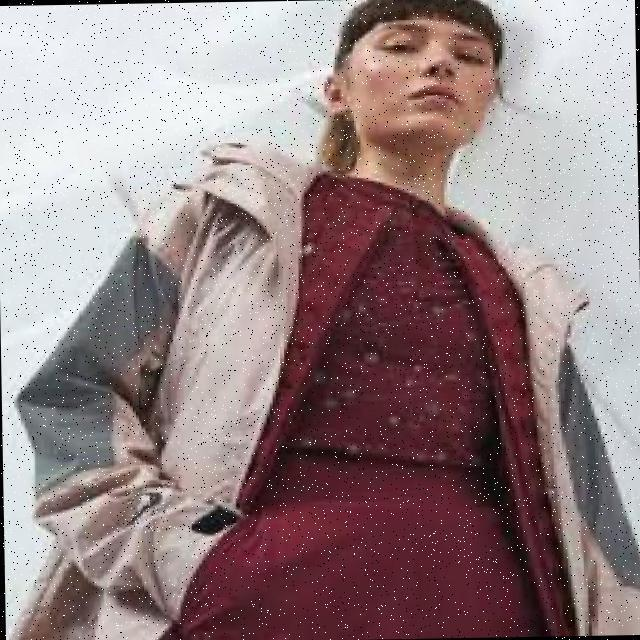Nike: (120, 483, 169, 532)
